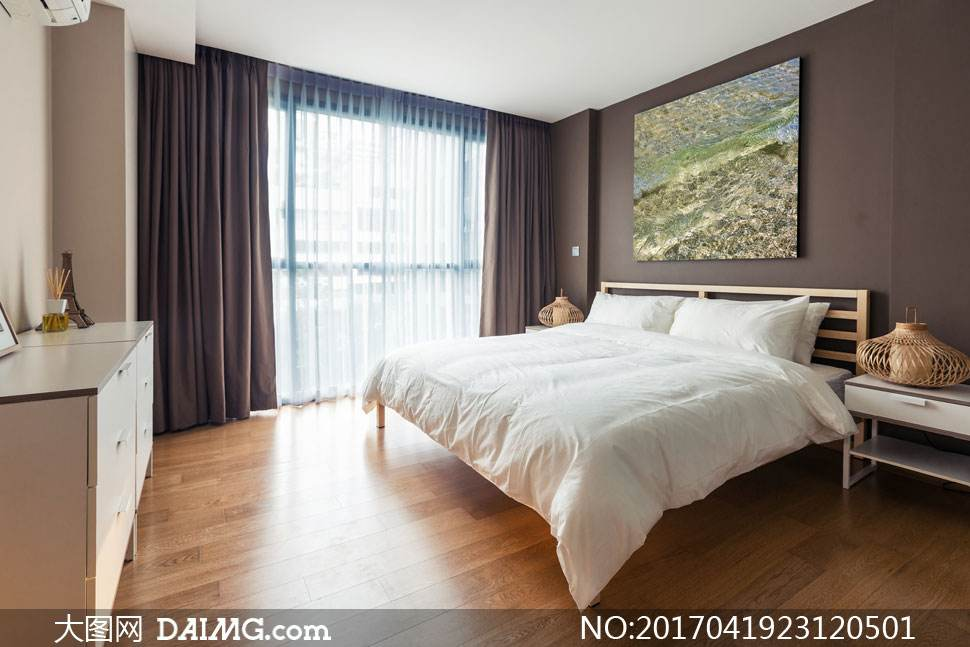床: (379, 326, 857, 537)
枕头: (588, 286, 819, 371)
